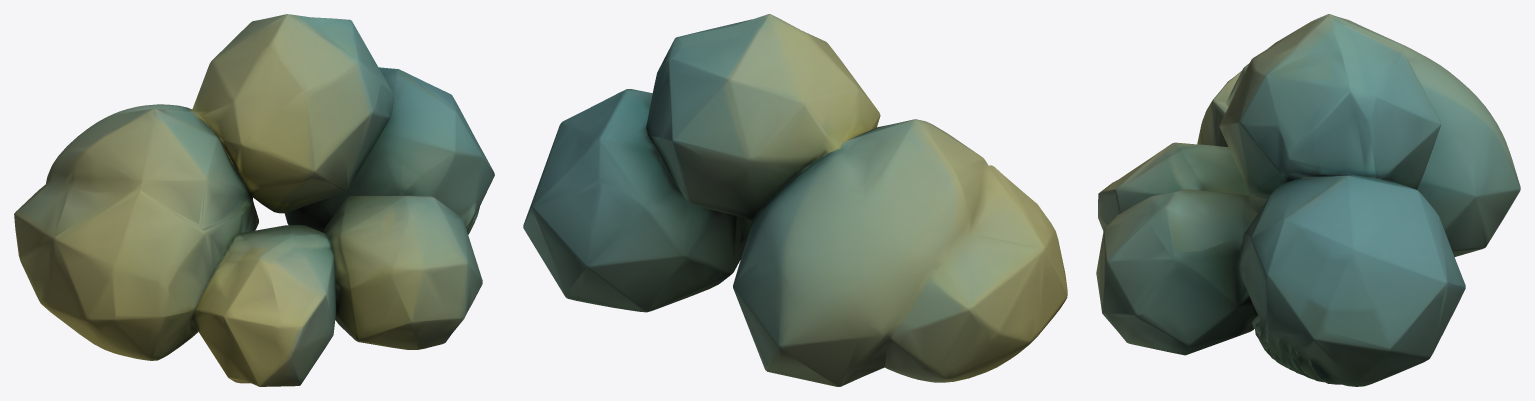
File: bush1.fbx
3 views of the same model, side by side, from view 1: azimuth 30°, elevation 25°; view 2: azimuth 150°, elevation 25°; view 3: azimuth 270°, elevation 25° (orthographic). The views are drawn at different scales.
Parts seen in each view (by area): view 1: bush1; view 2: bush1; view 3: bush1.
Part boxes in pixels (<box>): bush1: <box>14,14,494,386</box>; bush1: <box>523,14,1067,386</box>; bush1: <box>1096,14,1520,386</box>.
Size of the model in its own units: 41.45 by 25.68 by 32.29.
Materials: 1 (1 with a texture image).
